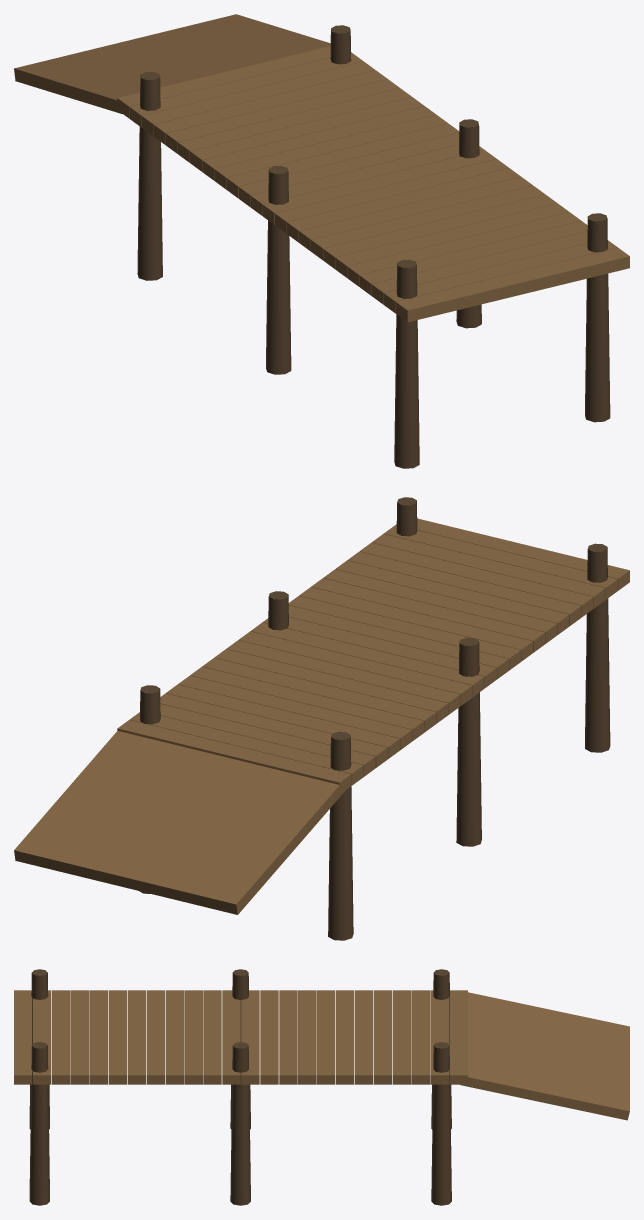
Rendered from pier.glb.
3 views of the same model, one above another, from view 1: azimuth 30°, elevation 25°; view 2: azimuth 150°, elevation 25°; view 3: azimuth 270°, elevation 25° (orthographic). The views are drawn at different scales.
Visible parts, largest first — view 1: Деревянный причал; view 2: Деревянный причал; view 3: Деревянный причал.
Boxes of the visible parts, <box> form: Деревянный причал: <box>14,14,629,468</box>; Деревянный причал: <box>14,497,629,940</box>; Деревянный причал: <box>14,969,629,1205</box>.
Size of the model in its own units: 3.5 by 3 by 10.73.
